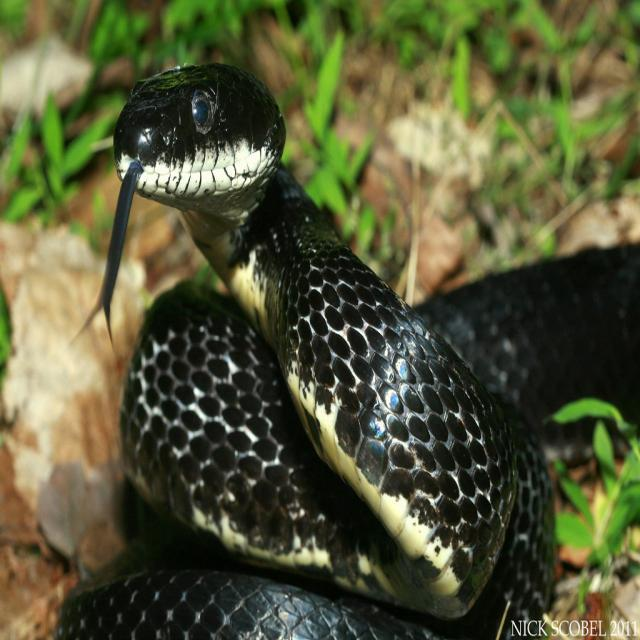Snake: (55, 54, 639, 640)
